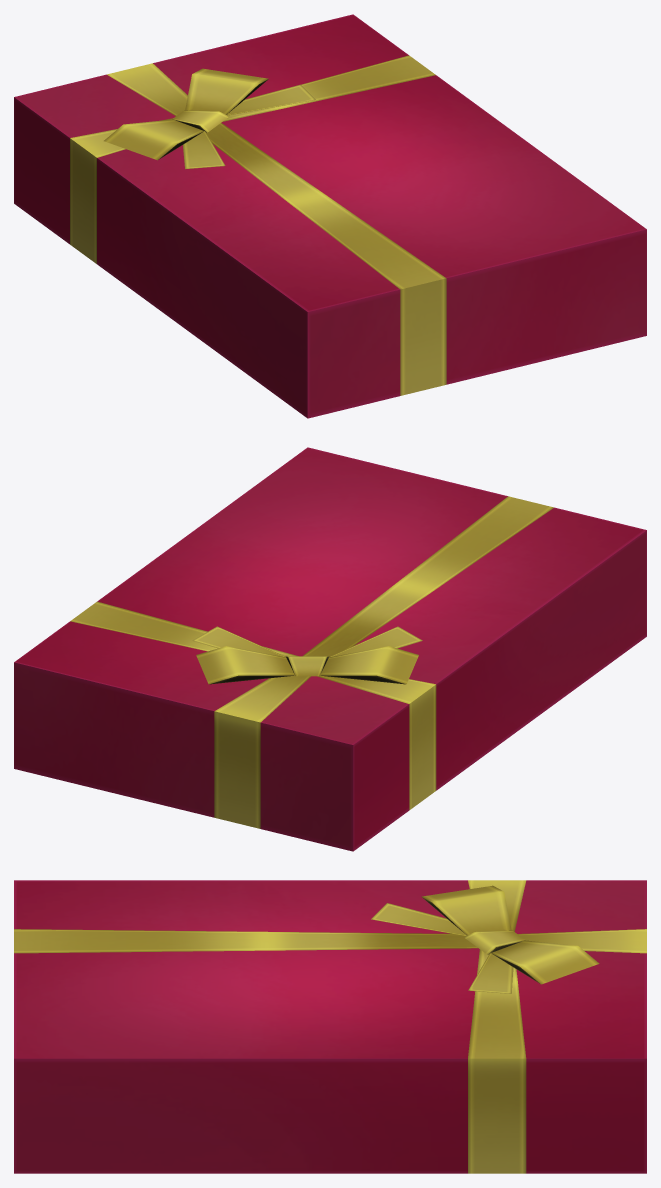
File: set_gift_01.fbx
3 views of the same model, one above another, from view 1: azimuth 30°, elevation 25°; view 2: azimuth 150°, elevation 25°; view 3: azimuth 270°, elevation 25° (orthographic). The views are drawn at different scales.
Parts seen in each view (by area): view 1: set_gift_01; view 2: set_gift_01; view 3: set_gift_01.
Part boxes in pixels (bbox=[...]): set_gift_01: bbox=[14, 14, 646, 418]; set_gift_01: bbox=[14, 447, 646, 851]; set_gift_01: bbox=[14, 880, 646, 1173].
Bounding box in the file's own units: 10 × 3.3 × 15.
